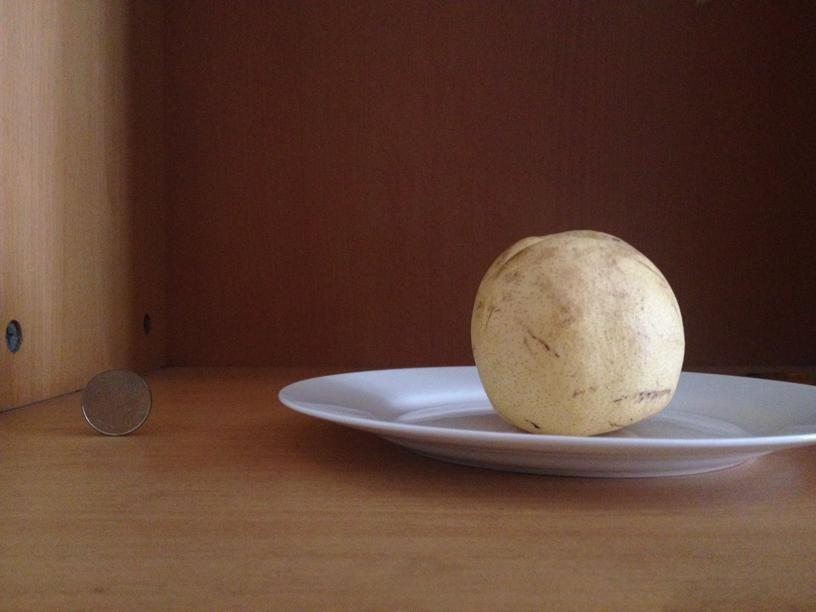coin: (81, 366, 153, 436)
pear: (476, 228, 685, 434)
